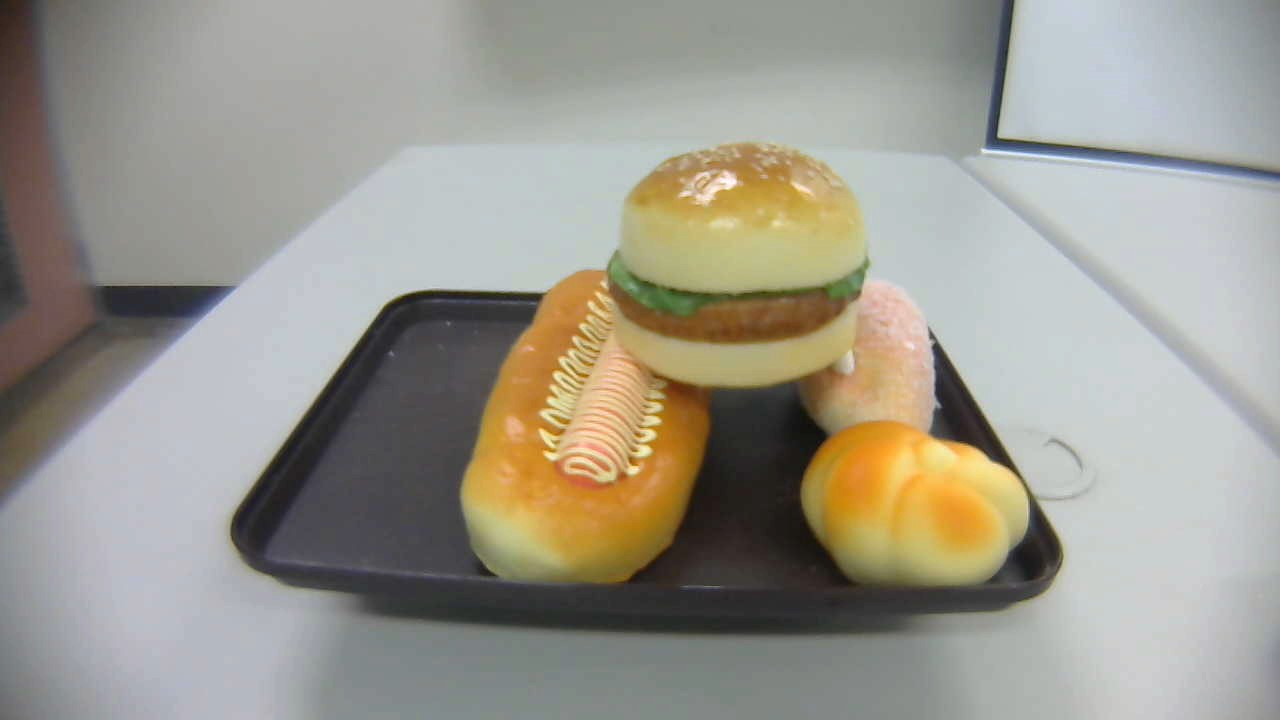coconut: (797, 279, 936, 447)
hamburger: (605, 138, 870, 386)
hot dog: (459, 270, 712, 584)
twist bread: (798, 419, 1031, 587)
